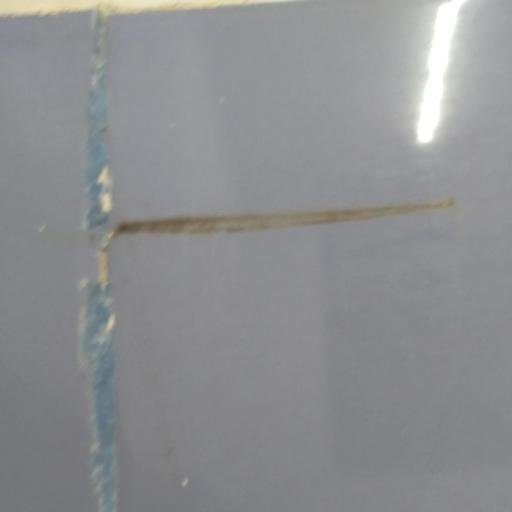stain: (109, 189, 469, 254)
